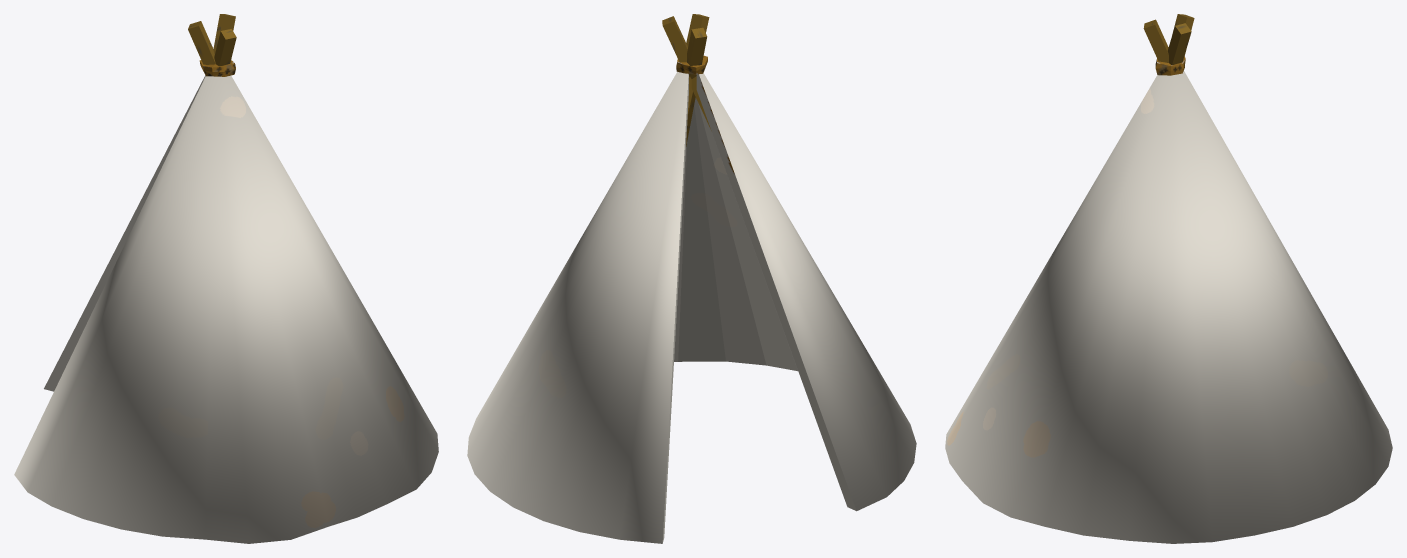
The model's file is teepee.dae.
3 views of the same model, side by side, from view 1: azimuth 30°, elevation 25°; view 2: azimuth 150°, elevation 25°; view 3: azimuth 270°, elevation 25° (orthographic). The views are drawn at different scales.
Visible parts, largest first — view 1: Cone; view 2: Cone; view 3: Cone.
Part boxes in pixels (x1,y1,x2,y2): Cone: (14, 14, 438, 543); Cone: (467, 14, 916, 543); Cone: (945, 14, 1392, 543).
Bounding box in the file's own units: 2.01 × 2 × 2.22.
Materials: 1 (1 with a texture image).
